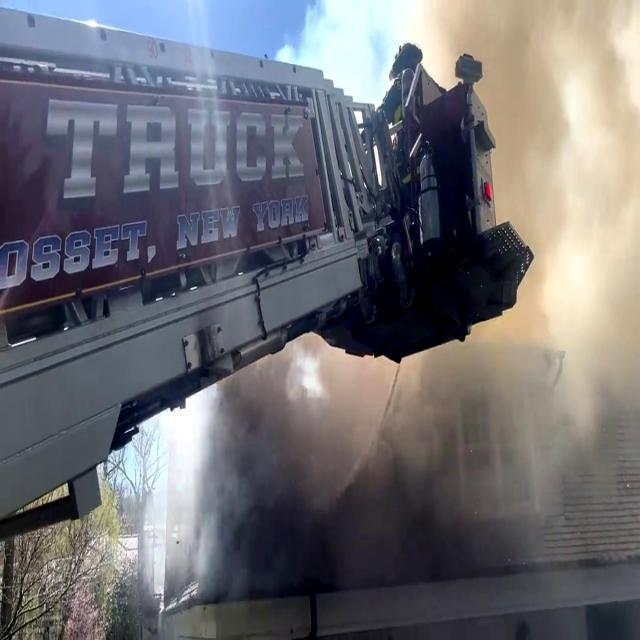Smoke: (197, 350, 620, 608), (453, 9, 640, 476)
